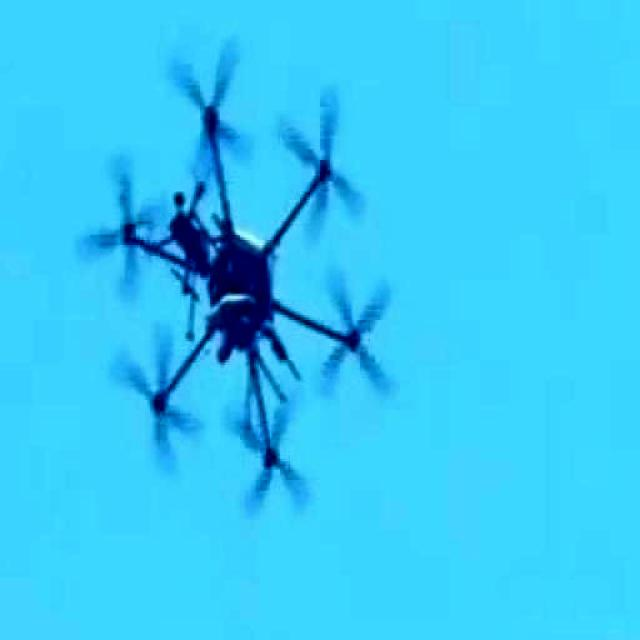bird: (80, 51, 391, 531)
